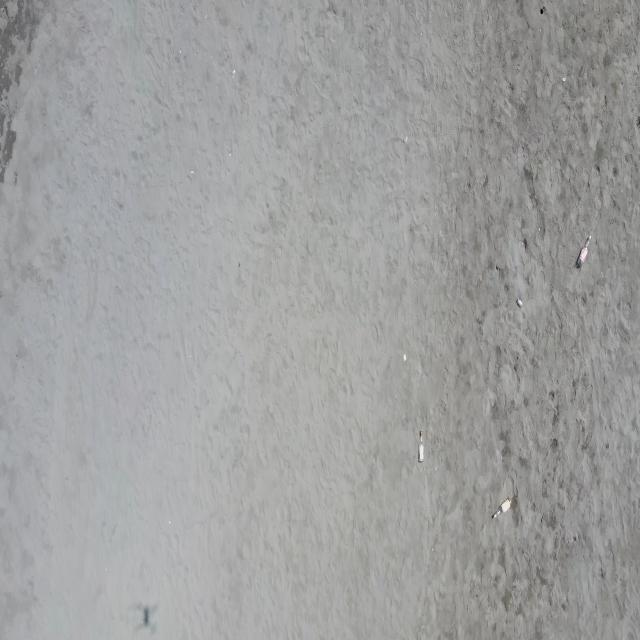glass: (577, 234, 592, 266), (493, 496, 512, 519), (419, 430, 425, 462), (517, 298, 523, 308)
